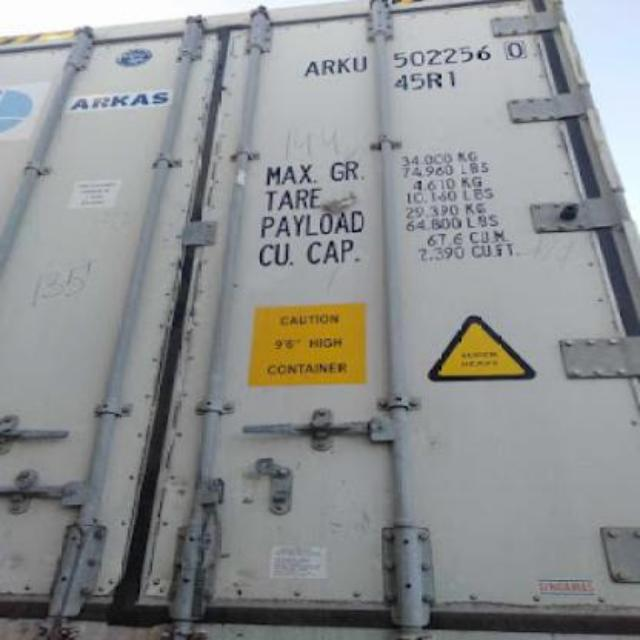0: (505, 41, 525, 59), (410, 50, 426, 66)
2: (426, 49, 442, 65), (442, 48, 458, 64)
5: (392, 51, 410, 69), (460, 45, 474, 65)
6: (476, 44, 492, 62)
A: (304, 60, 320, 80)
K: (338, 56, 350, 76)
R: (322, 58, 336, 78)
U: (354, 56, 368, 72)
